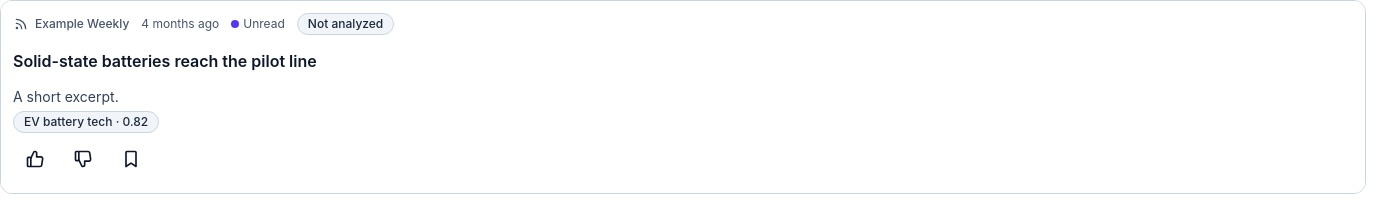
Test: the colour and the name of the action › on the right, "bookmark" of {} is named "Bookmark"
Press the mouse on the element named "Solid-state batteries reach the pilot line": (683, 97) [0,0,1366,194]
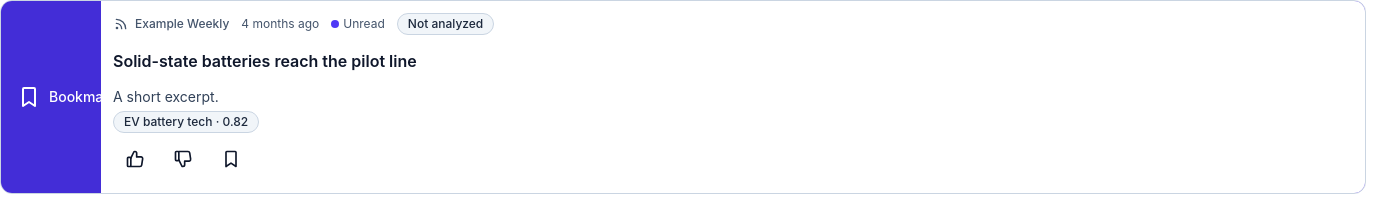
expect the element showing "Bookmark" is shown: met
expect the text "Bookmark" is shown: met, box [49,87,117,107]
